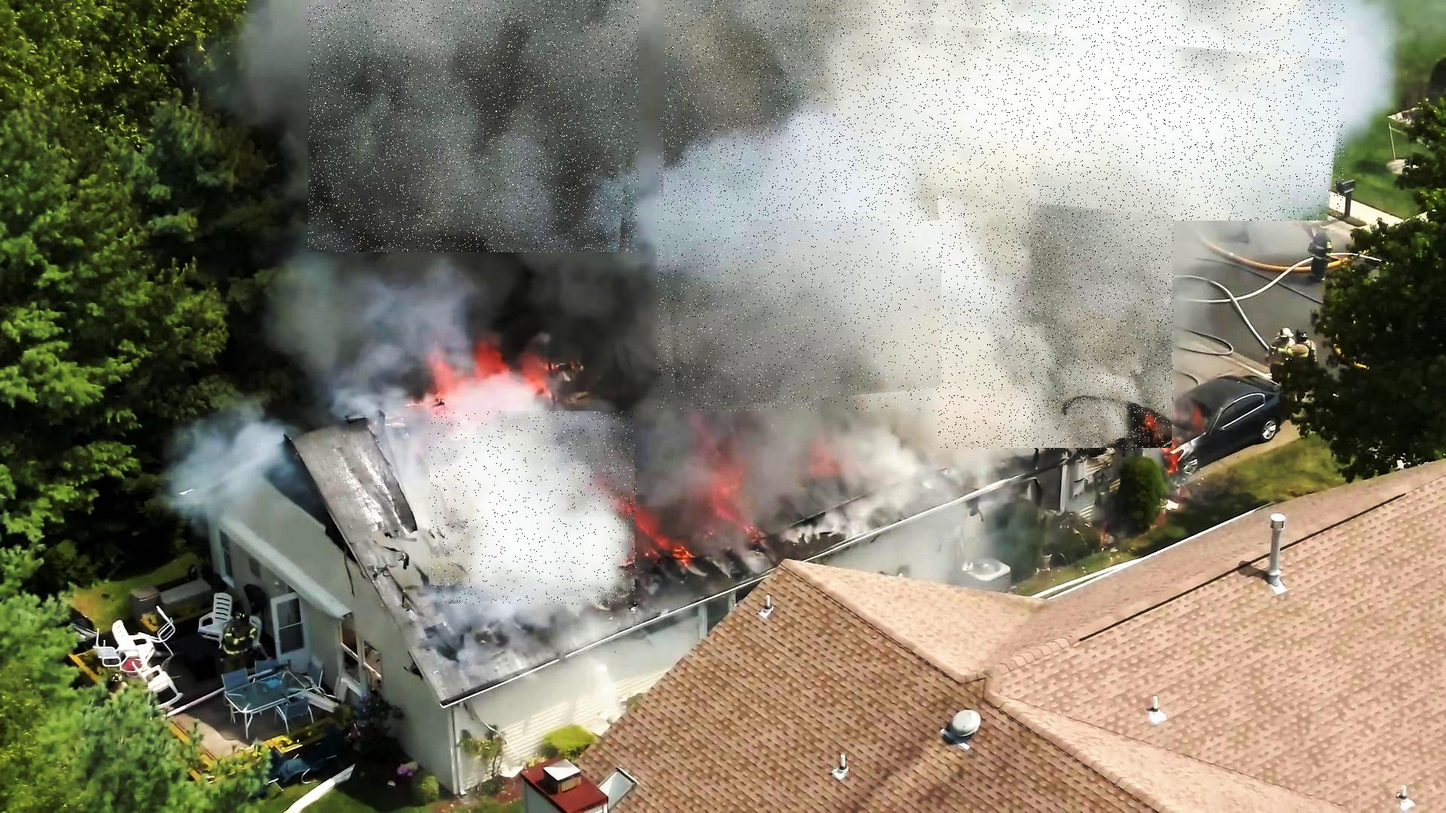smoke: (665, 0, 1345, 221), (657, 113, 944, 411), (308, 0, 639, 252), (938, 196, 1174, 450), (430, 411, 637, 605)
